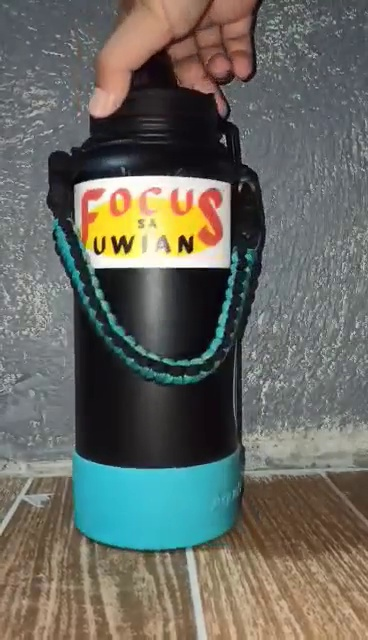hand: (89, 1, 257, 118)
tumbler: (44, 59, 266, 554)
